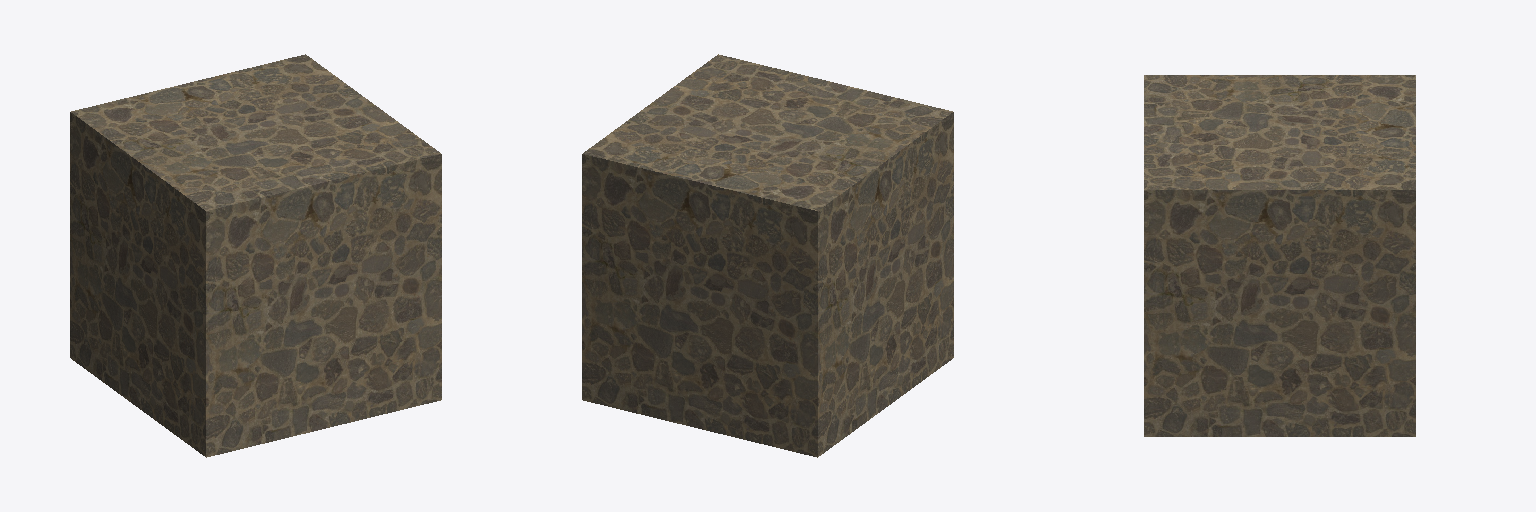
3 views of the same model, side by side, from view 1: azimuth 30°, elevation 25°; view 2: azimuth 150°, elevation 25°; view 3: azimuth 270°, elevation 25° (orthographic).
Parts seen in each view (by area): view 1: Box001; view 2: Box001; view 3: Box001.
Part boxes in pixels (x1,y1,x2,y2): Box001: (70, 54, 441, 457); Box001: (582, 54, 953, 457); Box001: (1144, 75, 1415, 436).
Bounding box in the file's own units: 21 × 21 × 21.
Materials: 1 (1 with a texture image).